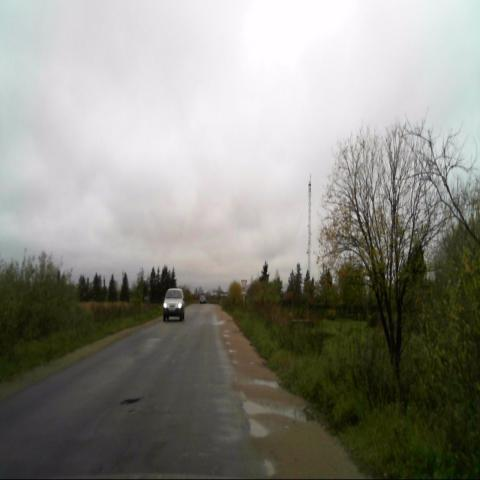2_4: (240, 278, 248, 290)
